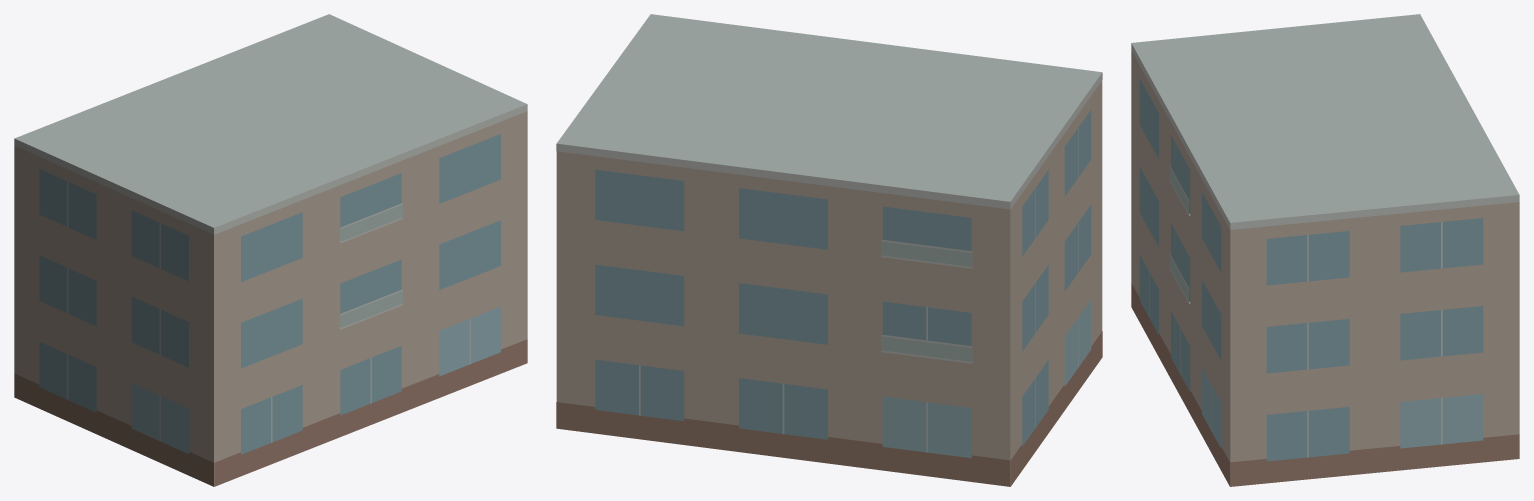
File: survey-upis-33036397.glb
The picture shows the model from 3 angles, left to right: view 1: azimuth 30°, elevation 25°; view 2: azimuth 150°, elevation 25°; view 3: azimuth 270°, elevation 25°; orthographic projection. The views are drawn at different scales.
Parts seen in each view (by area): view 1: survey-upis-33036397.tmp; view 2: survey-upis-33036397.tmp; view 3: survey-upis-33036397.tmp.
Part boxes in pixels (<box>): survey-upis-33036397.tmp: <box>14,14,527,486</box>; survey-upis-33036397.tmp: <box>556,14,1102,486</box>; survey-upis-33036397.tmp: <box>1131,14,1519,486</box>.
Bounding box in the file's own units: 15.55 × 9.15 × 12.21.
